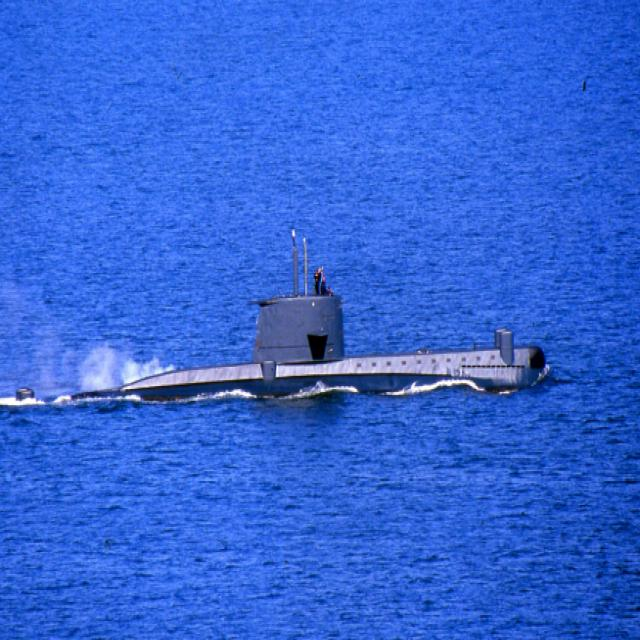submarine: (1, 277, 547, 387)
